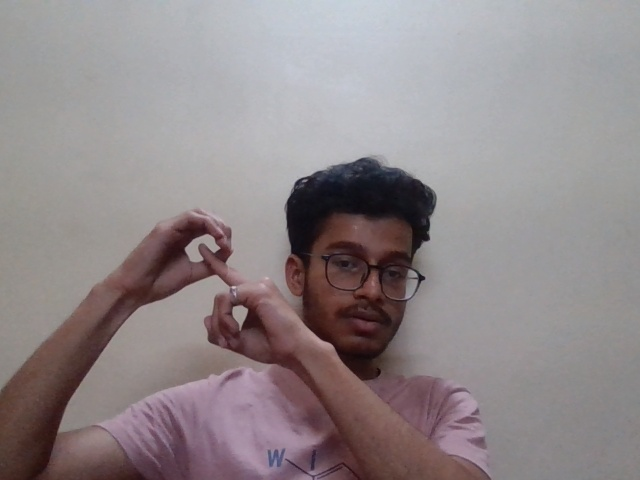Q: (84, 202, 344, 390)
